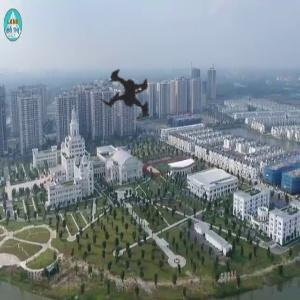drone: (48, 19, 207, 178)
